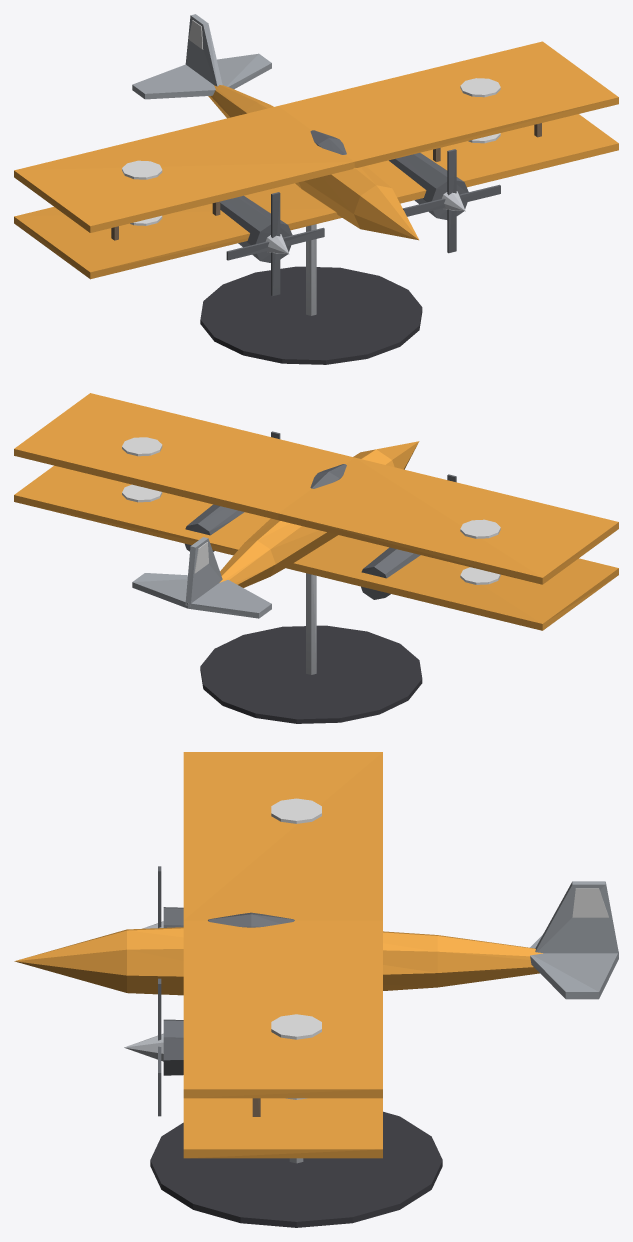
Rendered from Great War Bomber.glb.
3 views of the same model, one above another, from view 1: azimuth 30°, elevation 25°; view 2: azimuth 150°, elevation 25°; view 3: azimuth 270°, elevation 25° (orthographic). The views are drawn at different scales.
Parts seen in each view (by area): view 1: Body; view 2: Body; view 3: Body.
Part boxes in pixels (x1,y1,x2,y2): Body: (14, 14, 618, 364); Body: (14, 393, 618, 723); Body: (14, 752, 618, 1227).
Bounding box in the file's own units: 1.2 × 0.47 × 0.91.
